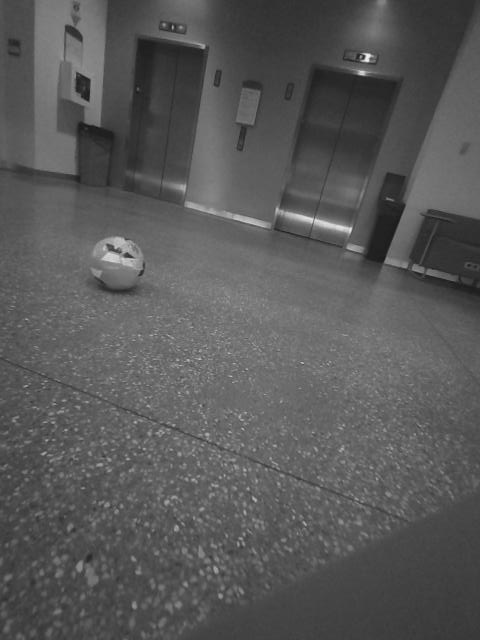ball: (238, 258, 290, 307)
